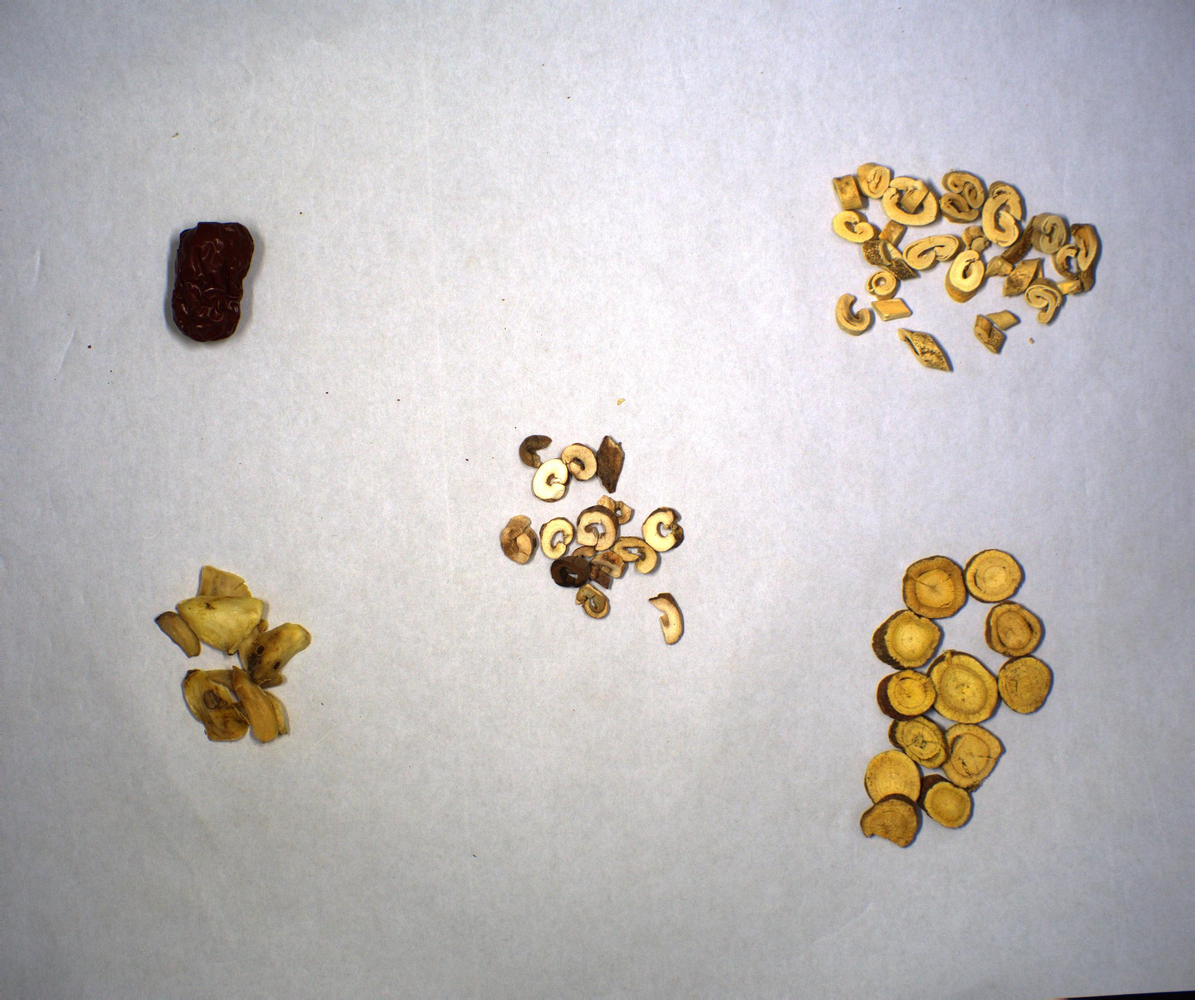baihe: (156, 567, 312, 748)
baixianpi: (830, 160, 1100, 374)
dazao: (163, 221, 266, 351)
gancaopian: (861, 548, 1053, 852)
mudanpi: (498, 435, 687, 651)
